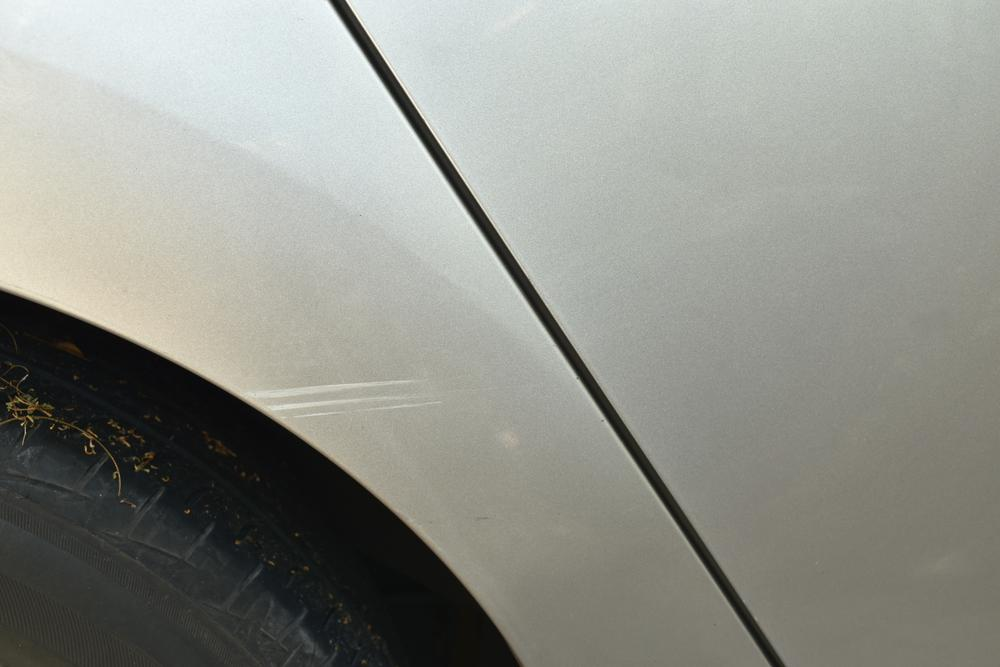scratch: (236, 374, 456, 423)
